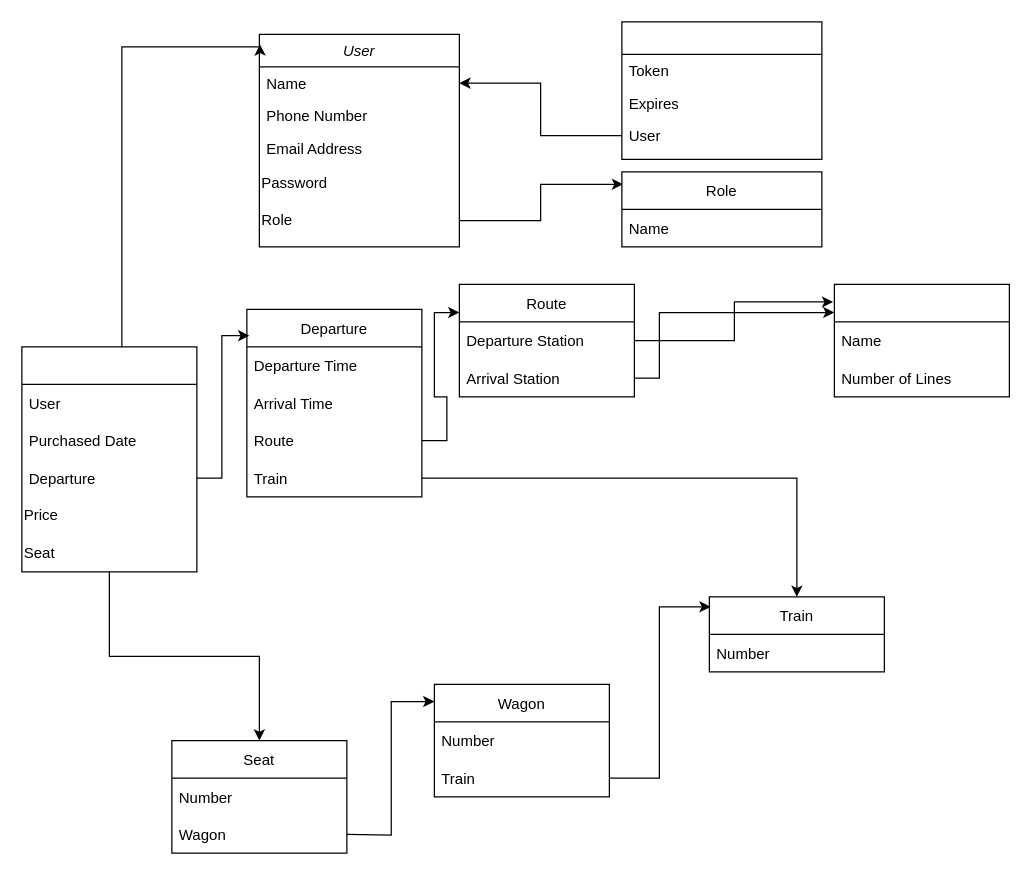
Image size: 1031x875. Some labels were removed from this diagram. Here are the shapes that lost their labels. From the top down, the box of each, then its label:
(621, 21, 822, 159): Refresh Token
(833, 283, 1009, 397): Station
(21, 346, 197, 572): Ticket
